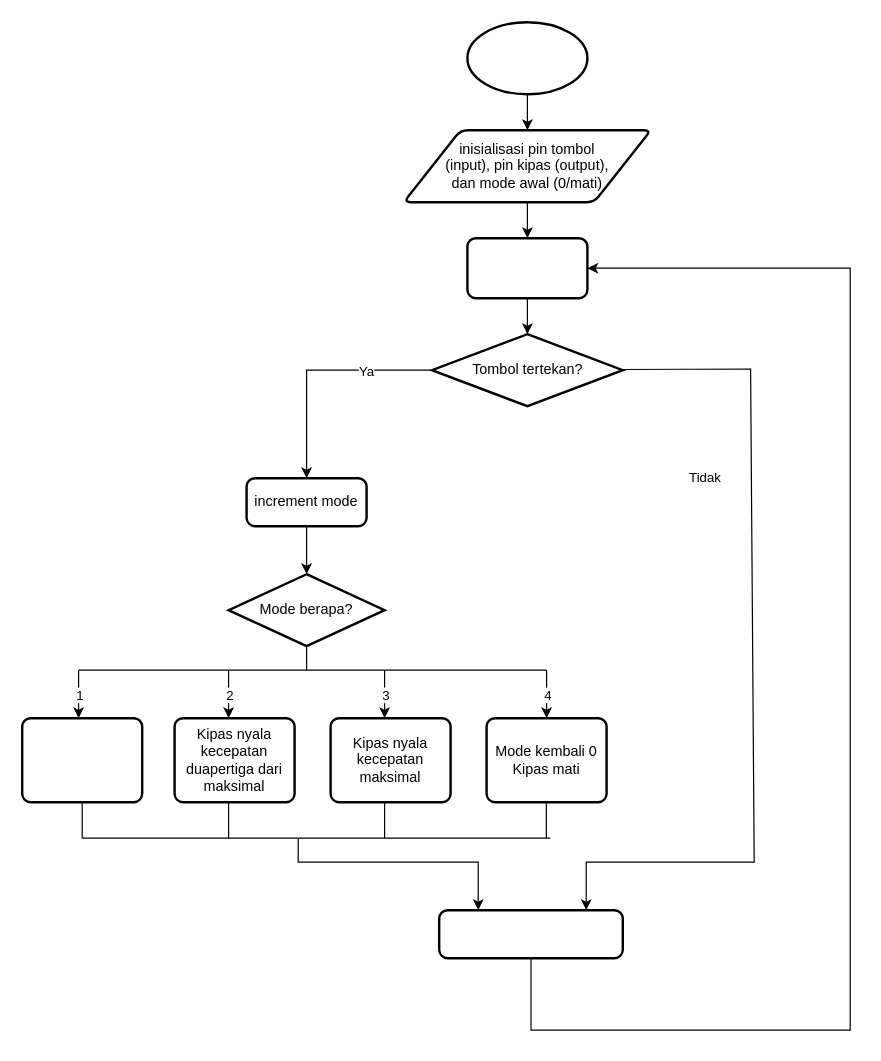
This 881x1061 diagram has some shape labels left out. The centre of each missing label's shape, as x and y in pixels:
"Ambil input dari pin tombol" goes at (527,267).
"Jeda 0,4 detik" goes at (530,933).
"Kipas nyala kecepatan sepertiga dari maksimal" goes at (81,759).
"Mulai" goes at (527,57).
